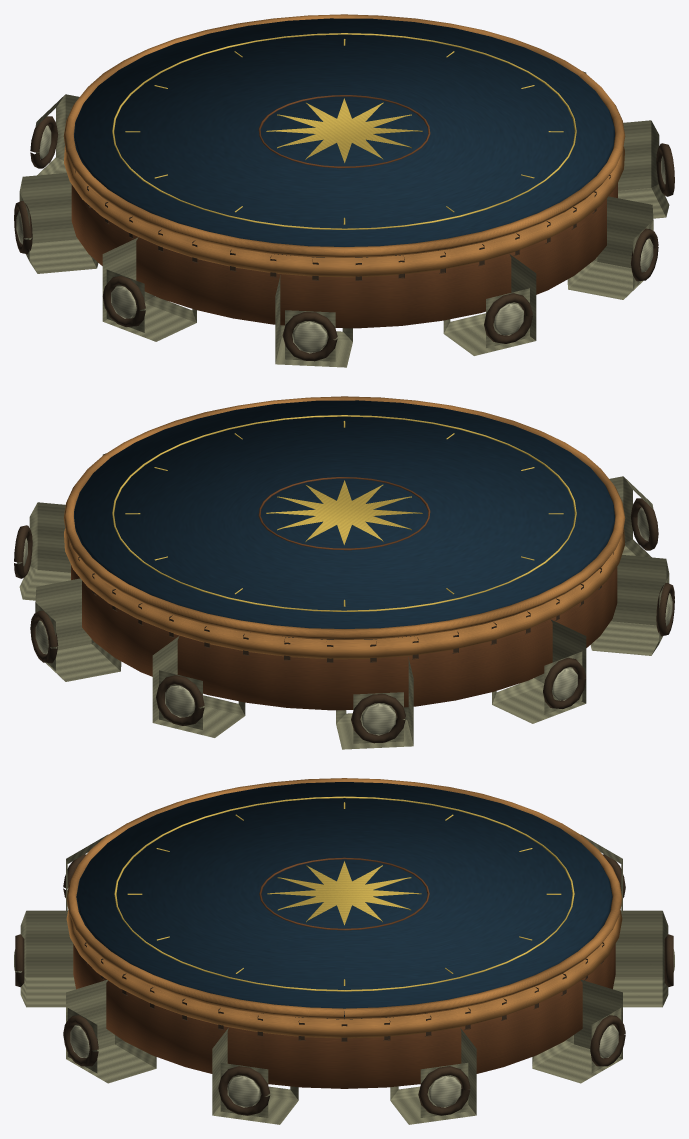
File: spinner.glb
The picture shows the model from 3 angles, top to bottom: view 1: azimuth 30°, elevation 25°; view 2: azimuth 150°, elevation 25°; view 3: azimuth 270°, elevation 25°; orthographic projection.
Visible parts, largest first — view 1: Recessed blue sun dial, Broad gear housing, Outer deck rolled rim, Housing upper shoulder, Inset circular stone boss (×7), Stone gear tooth 07, Stone gear tooth 01, Stone gear tooth 08, Twelve ray gold sun, Stone gear tooth 02, Stone gear tooth 00, Inner deck gold circle (+4 smaller); view 2: Recessed blue sun dial, Broad gear housing, Outer deck rolled rim, Housing upper shoulder, Inset circular stone boss (×7), Stone gear tooth 08, Stone gear tooth 04, Stone gear tooth 07, Twelve ray gold sun, Stone gear tooth 03, Stone gear tooth 05, Inner deck gold circle (+4 smaller); view 3: Recessed blue sun dial, Broad gear housing, Outer deck rolled rim, Housing upper shoulder, Stone gear tooth 00, Stone gear tooth 05, Inset circular stone boss (×4), Stone gear tooth 01, Stone gear tooth 04, Twelve ray gold sun, Stone gear tooth 02, Stone gear tooth 03 (+3 smaller).
Part boxes in pixels (<box>): Recessed blue sun dial: <box>74,18,614,257</box>; Broad gear housing: <box>71,183,617,328</box>; Outer deck rolled rim: <box>63,14,625,257</box>; Housing upper shoulder: <box>64,146,624,277</box>; Inset circular stone boss (×7): <box>14,116,674,361</box>; Stone gear tooth 07: <box>19,173,98,273</box>; Stone gear tooth 01: <box>567,196,653,299</box>; Stone gear tooth 08: <box>102,237,196,341</box>; Twelve ray gold sun: <box>266,98,422,162</box>; Stone gear tooth 02: <box>618,120,669,218</box>; Stone gear tooth 00: <box>443,254,536,355</box>; Inner deck gold circle: <box>112,33,576,229</box>; Recessed blue sun dial: <box>74,400,614,639</box>; Broad gear housing: <box>71,565,617,710</box>; Outer deck rolled rim: <box>63,396,625,639</box>; Housing upper shoulder: <box>64,528,624,659</box>; Inset circular stone boss (×7): <box>14,498,674,743</box>; Stone gear tooth 08: <box>590,555,669,655</box>; Stone gear tooth 04: <box>35,578,121,681</box>; Stone gear tooth 07: <box>492,619,586,723</box>; Twelve ray gold sun: <box>266,480,422,544</box>; Stone gear tooth 03: <box>19,502,70,600</box>; Stone gear tooth 05: <box>152,636,245,737</box>; Inner deck gold circle: <box>112,415,576,611</box>; Recessed blue sun dial: <box>76,782,612,1019</box>; Broad gear housing: <box>73,944,615,1088</box>; Outer deck rolled rim: <box>66,778,622,1019</box>; Housing upper shoulder: <box>66,910,622,1038</box>; Stone gear tooth 00: <box>20,910,75,1007</box>; Stone gear tooth 05: <box>613,910,668,1007</box>; Inset circular stone boss (×4): <box>63,1015,625,1115</box>; Stone gear tooth 01: <box>66,980,156,1083</box>; Stone gear tooth 04: <box>532,980,622,1083</box>; Twelve ray gold sun: <box>267,861,421,925</box>; Stone gear tooth 02: <box>212,1028,298,1124</box>; Stone gear tooth 03: <box>390,1028,476,1124</box>.
Bounding box in the file's own units: 237 × 67.66 × 244.
Materials: 7 (7 with a texture image).
